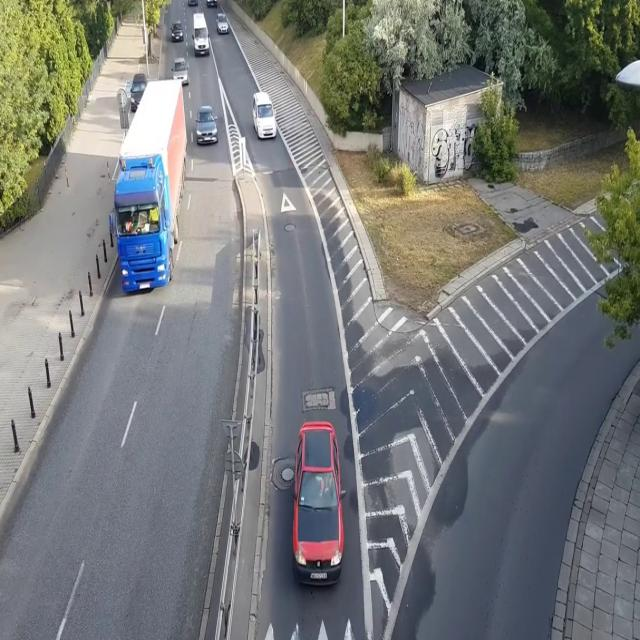car: (290, 417, 347, 591), (195, 105, 218, 149), (130, 73, 148, 113), (171, 55, 189, 87), (216, 12, 230, 34), (171, 18, 183, 42), (185, 0, 199, 6), (205, 0, 217, 6)
truck: (107, 76, 188, 294)
van: (252, 88, 278, 141), (191, 11, 210, 56)
